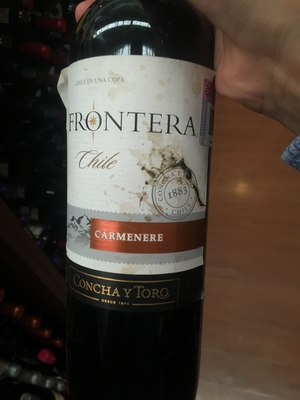frontera carmenere: (47, 5, 222, 400)
